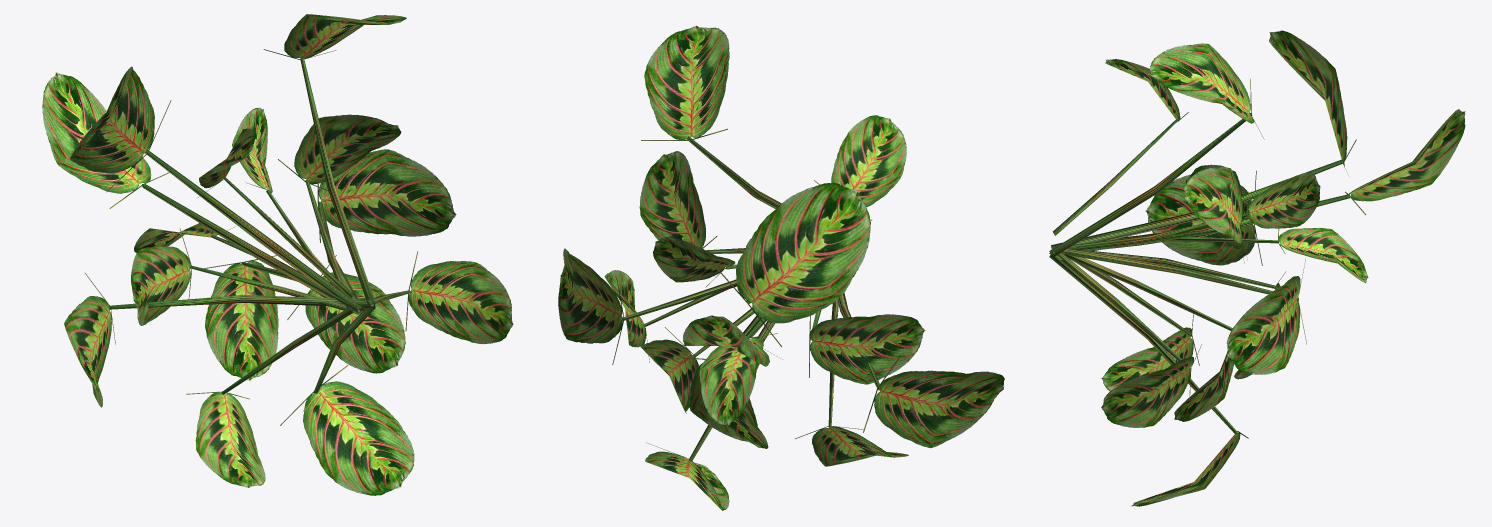
The model's file is StripeyPlant_Max2012.FBX.
The picture shows the model from 3 angles, left to right: view 1: azimuth 30°, elevation 25°; view 2: azimuth 150°, elevation 25°; view 3: azimuth 270°, elevation 25°; orthographic projection. The views are drawn at different scales.
Parts seen in each view (by area): view 1: StripeyPlant; view 2: StripeyPlant; view 3: StripeyPlant.
Boxes of the visible parts, x1,y1,x2,y2 form: StripeyPlant: [42, 14, 513, 495]; StripeyPlant: [558, 25, 1004, 510]; StripeyPlant: [1049, 30, 1465, 506].
Bounding box in the file's own units: 3.07 × 2.78 × 3.4.
